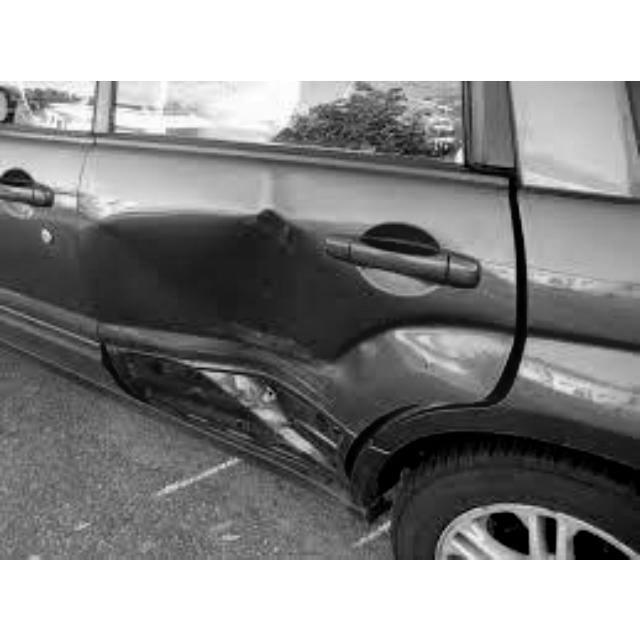doorouter-dent: (89, 164, 417, 448)
